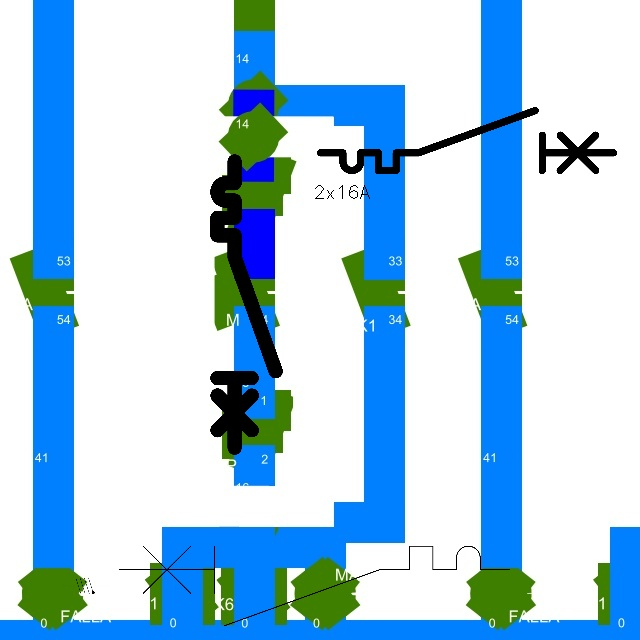interruptor_termomagnetico: (109, 536, 520, 636), (313, 103, 621, 178), (210, 154, 283, 455)
